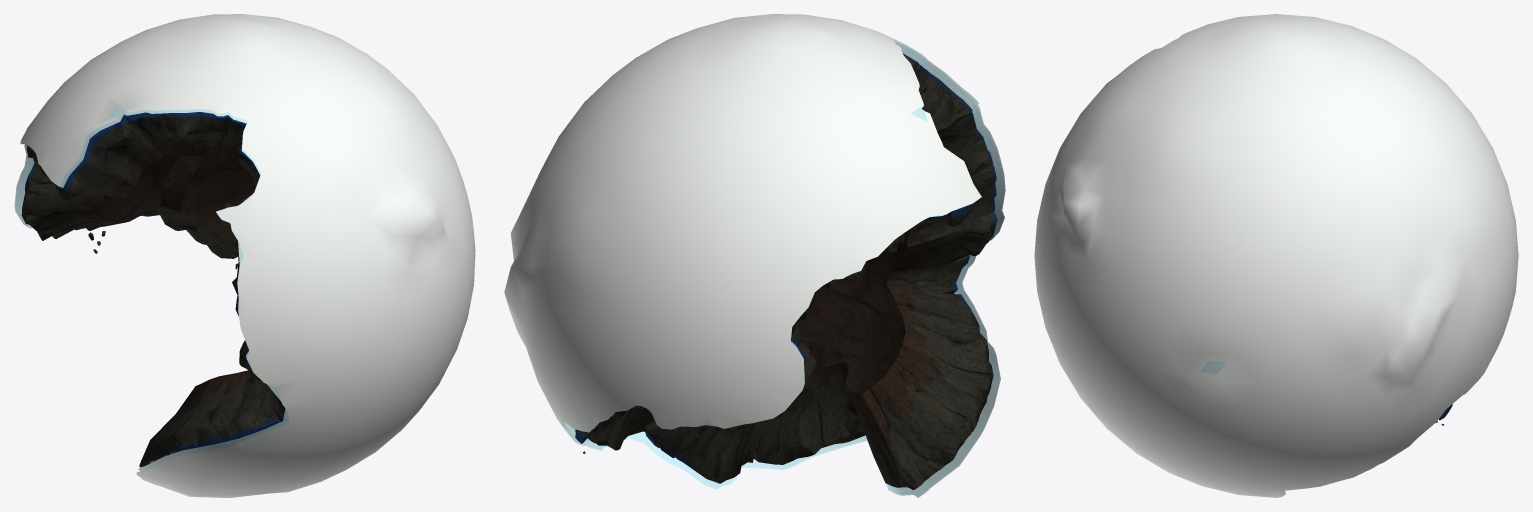
File: Union 3.fbx
3 renders of one model, left to right at view 1: azimuth 30°, elevation 25°; view 2: azimuth 150°, elevation 25°; view 3: azimuth 270°, elevation 25°, orthographic. The views are drawn at different scales.
Parts seen in each view (by area): view 1: Union_3; view 2: Union_3; view 3: Union_3.
Boxes of the visible parts, x1,y1,x2,y2 form: Union_3: (14,14,475,497); Union_3: (504,14,1005,497); Union_3: (1034,14,1518,497).
Bounding box in the file's own units: 9576 × 10216 × 10353.
